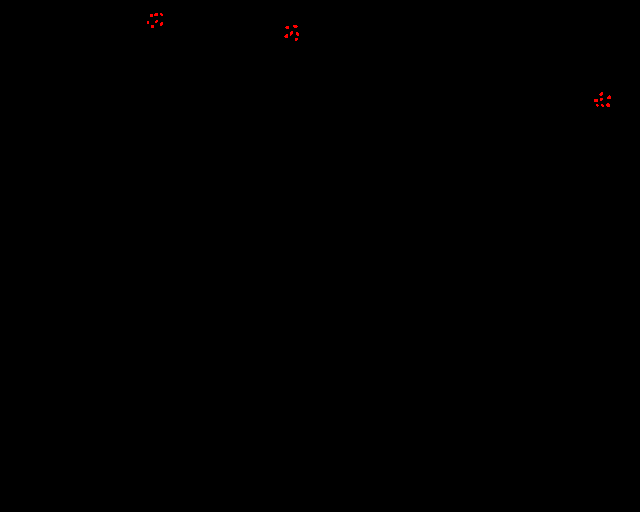Target: (284, 34, 288, 38), (599, 92, 603, 96), (607, 95, 611, 99), (606, 103, 610, 107), (293, 25, 298, 28), (290, 31, 293, 36), (154, 13, 158, 16), (160, 22, 163, 26), (285, 26, 289, 29), (296, 32, 299, 36), (594, 99, 598, 102), (160, 13, 163, 16), (150, 14, 153, 17), (155, 20, 158, 23), (151, 25, 154, 28), (295, 38, 298, 41), (600, 98, 603, 101), (596, 104, 599, 107), (601, 104, 604, 107), (147, 21, 149, 24)
